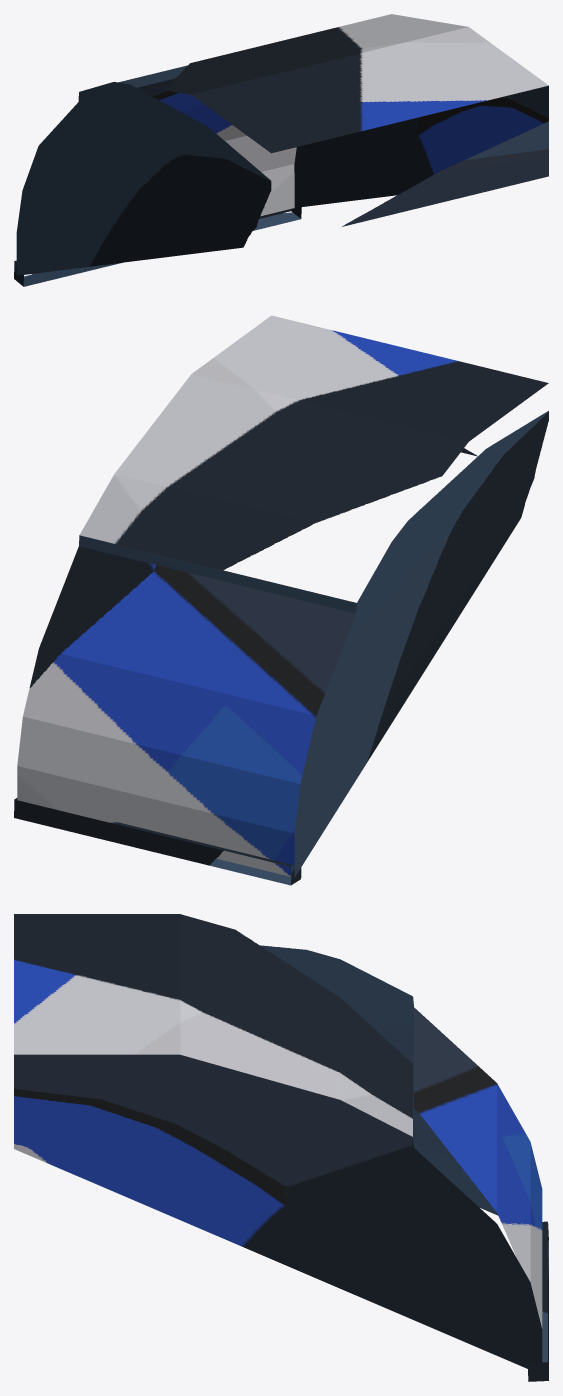
File: df11g_carport.obj
3 views of the same model, one above another, from view 1: azimuth 30°, elevation 25°; view 2: azimuth 150°, elevation 25°; view 3: azimuth 270°, elevation 25° (orthographic). The views are drawn at different scales.
Parts seen in each view (by area): view 1: cube; view 2: cube; view 3: cube.
Part boxes in pixels (left/top/right/bottom): cube: left=14, top=14, right=548, bottom=286; cube: left=14, top=315, right=548, bottom=885; cube: left=14, top=914, right=548, bottom=1381.
Bounding box in the file's own units: 1 × 1.08 × 1.61.
